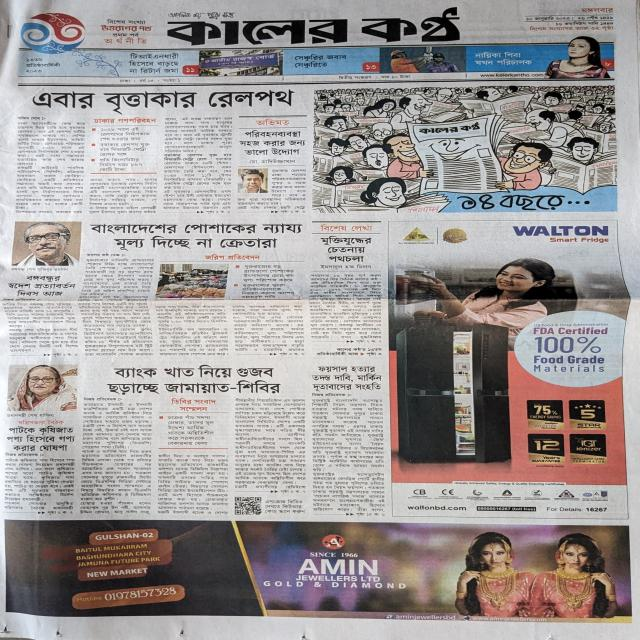advertisement: (387, 219, 632, 520), (4, 518, 633, 624), (311, 85, 618, 214)
caption: (264, 499, 306, 514), (10, 267, 69, 272), (5, 413, 55, 418)
image: (19, 12, 125, 78), (11, 221, 82, 266), (543, 36, 611, 78), (154, 263, 229, 299), (380, 46, 466, 73), (199, 49, 283, 76), (6, 275, 77, 297), (237, 168, 268, 193), (235, 497, 262, 515)
page number: (184, 66, 196, 73), (365, 64, 378, 70)
paragraph: (234, 397, 306, 485), (311, 398, 384, 472), (308, 273, 382, 340), (77, 295, 153, 356), (157, 454, 229, 510), (79, 449, 152, 501), (81, 402, 152, 449), (16, 121, 86, 166), (15, 165, 85, 210), (4, 458, 76, 501), (311, 471, 385, 512), (79, 258, 154, 296), (232, 316, 305, 352), (236, 169, 307, 205), (164, 117, 233, 153), (163, 157, 232, 190), (158, 327, 229, 356), (1, 302, 76, 328), (89, 178, 158, 206), (8, 327, 79, 353), (155, 305, 227, 327), (166, 415, 215, 446), (162, 189, 231, 210), (79, 500, 152, 515), (230, 305, 303, 316), (4, 501, 74, 510), (88, 205, 157, 214), (157, 510, 229, 515), (234, 484, 306, 489), (236, 205, 307, 210), (14, 210, 83, 214)
text: (6, 364, 78, 412), (521, 6, 616, 33), (100, 19, 154, 44), (243, 265, 294, 283), (240, 283, 295, 299), (99, 126, 151, 142), (99, 142, 151, 157), (315, 346, 382, 357), (97, 157, 143, 172), (169, 398, 217, 412), (24, 58, 62, 74), (91, 117, 157, 125), (203, 253, 261, 261), (336, 74, 411, 80), (319, 224, 375, 232), (116, 78, 181, 84), (479, 73, 544, 78), (319, 264, 372, 270), (255, 118, 291, 126), (249, 159, 296, 165), (278, 351, 305, 358), (355, 511, 386, 517), (4, 452, 39, 457), (86, 252, 121, 257), (52, 352, 79, 358), (279, 209, 306, 215), (206, 209, 231, 215), (82, 397, 117, 401), (311, 393, 346, 397), (355, 339, 383, 344), (47, 510, 74, 515), (280, 489, 306, 494), (2, 298, 37, 301), (16, 116, 41, 120), (604, 62, 612, 67)
title: (164, 5, 465, 48), (30, 88, 297, 116), (88, 222, 304, 252), (105, 364, 283, 396), (6, 419, 76, 452), (310, 365, 383, 392), (238, 130, 307, 156), (318, 235, 373, 263), (128, 52, 181, 75), (474, 51, 533, 66), (294, 54, 347, 69), (163, 153, 232, 161)
